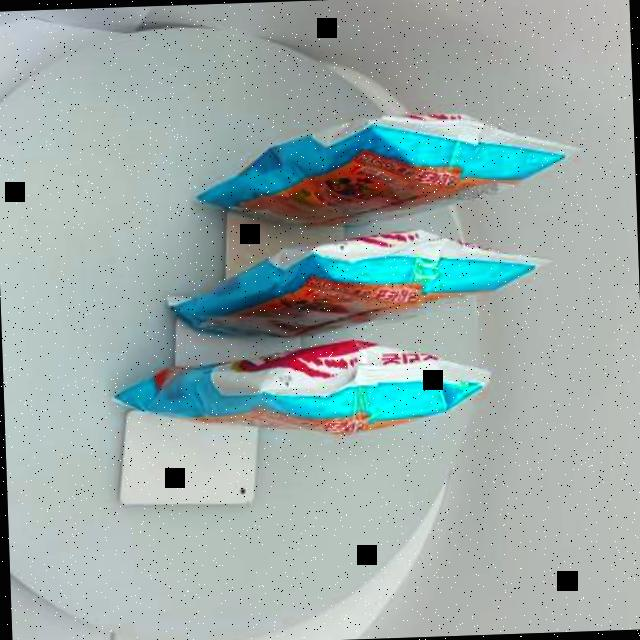snack_bag: (79, 76, 608, 466)
